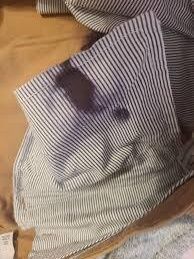ink: (57, 62, 95, 109), (114, 105, 130, 120)
